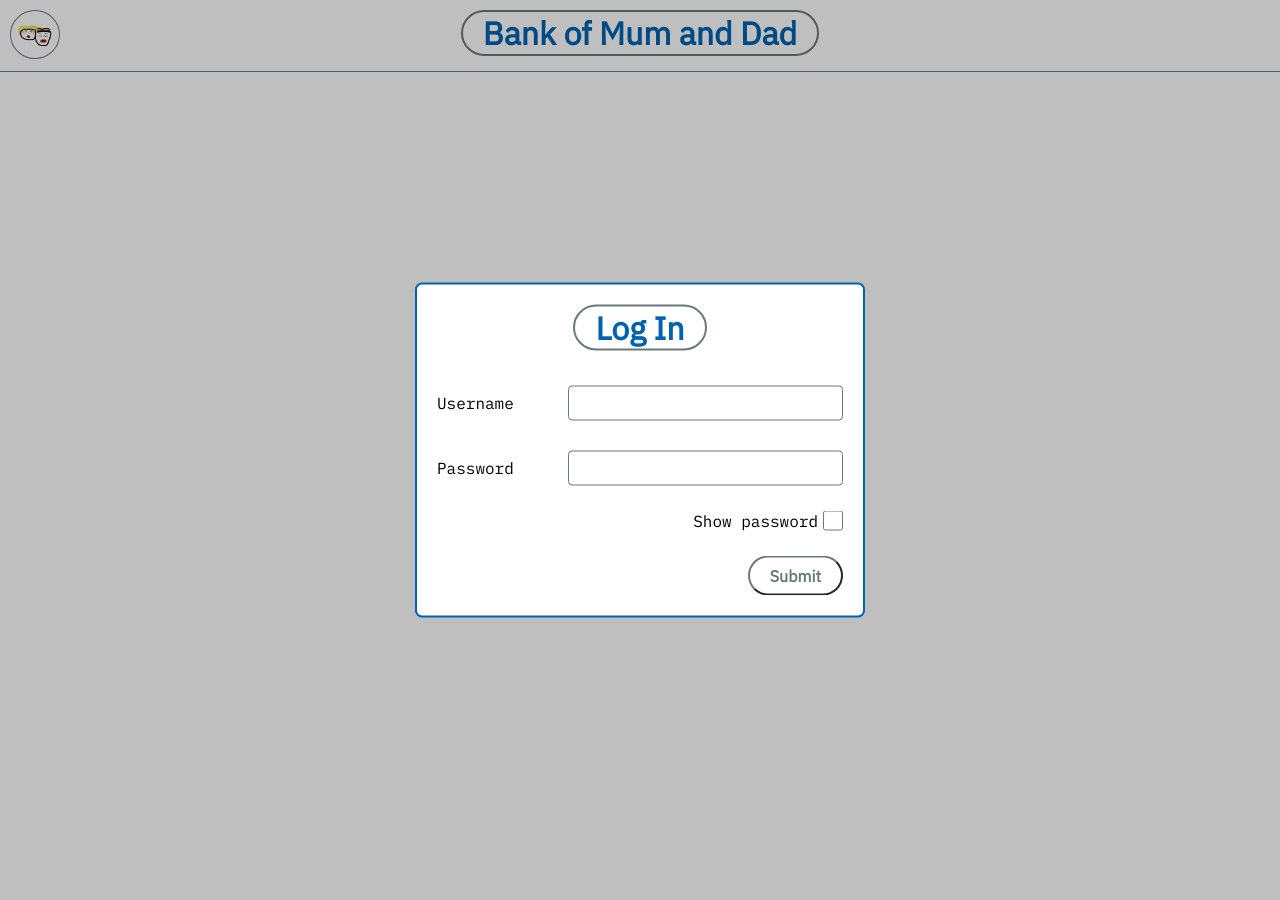
Test case: login form › enables submit button with valid input
The width and height of the screenshot is (1280, 900).
Type "Username" into the field labelled "Username" at (706, 403), box [568,386,843,420]
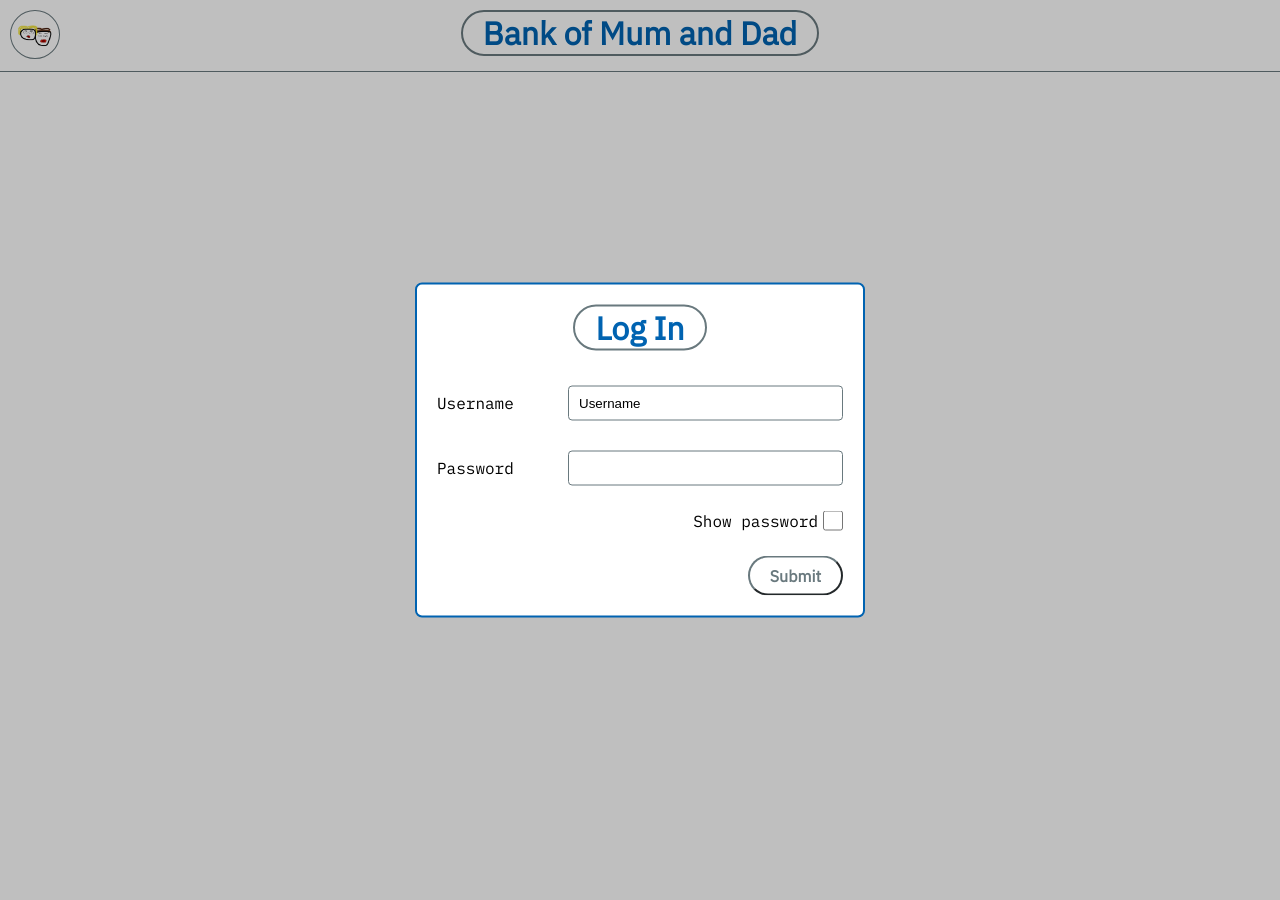
Type "Password" into the password field labelled "Password" at (706, 468), box [568,450,843,486]
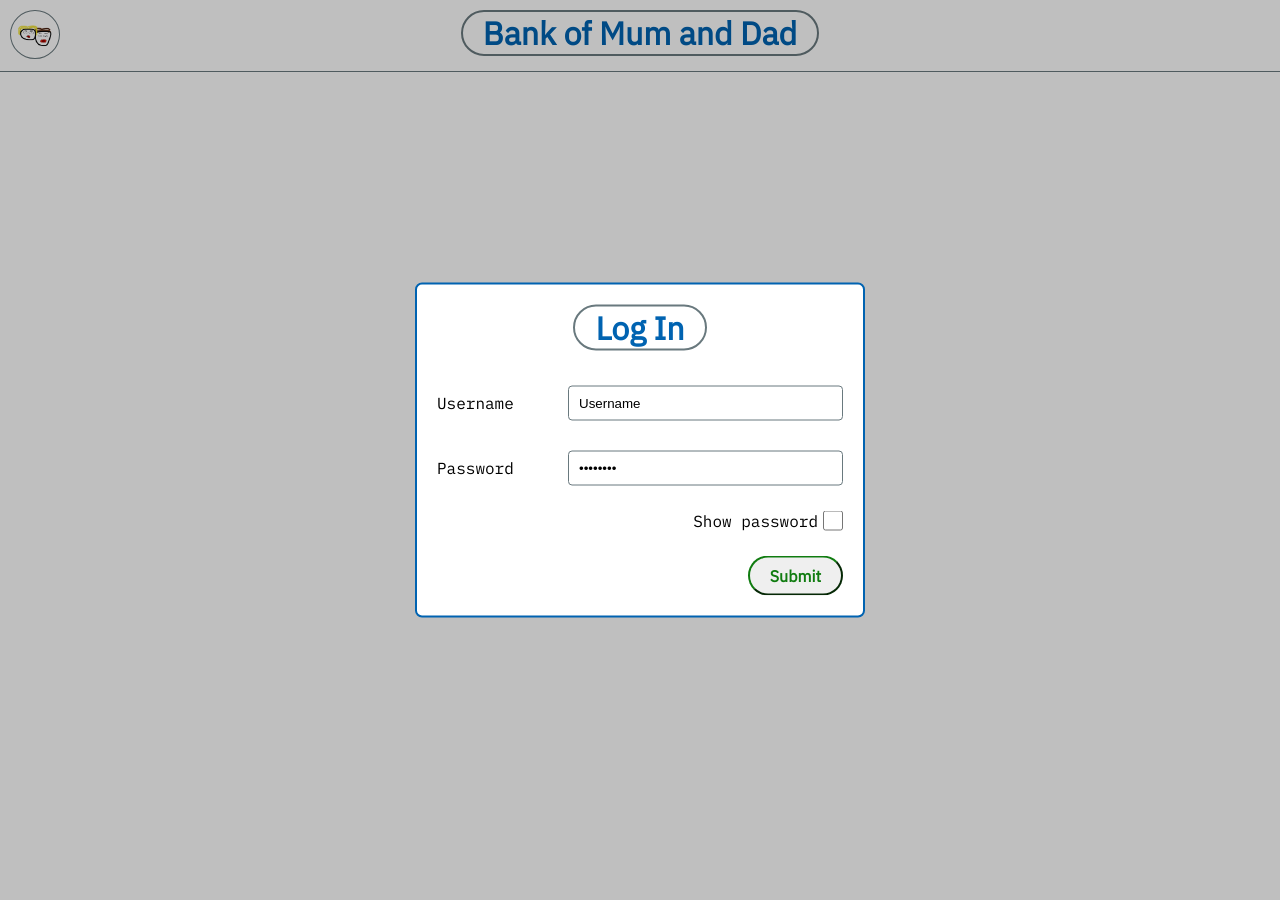
expect the button "Submit" is enabled: met, box [748,556,843,596]
